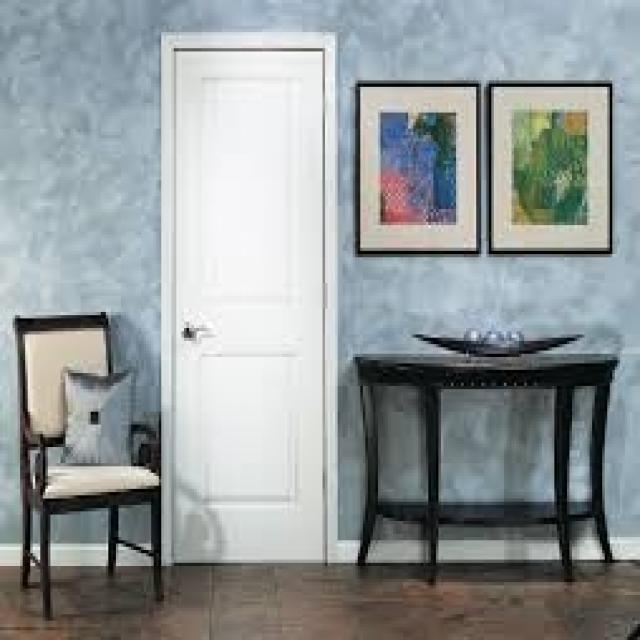Door: (167, 44, 333, 574)
